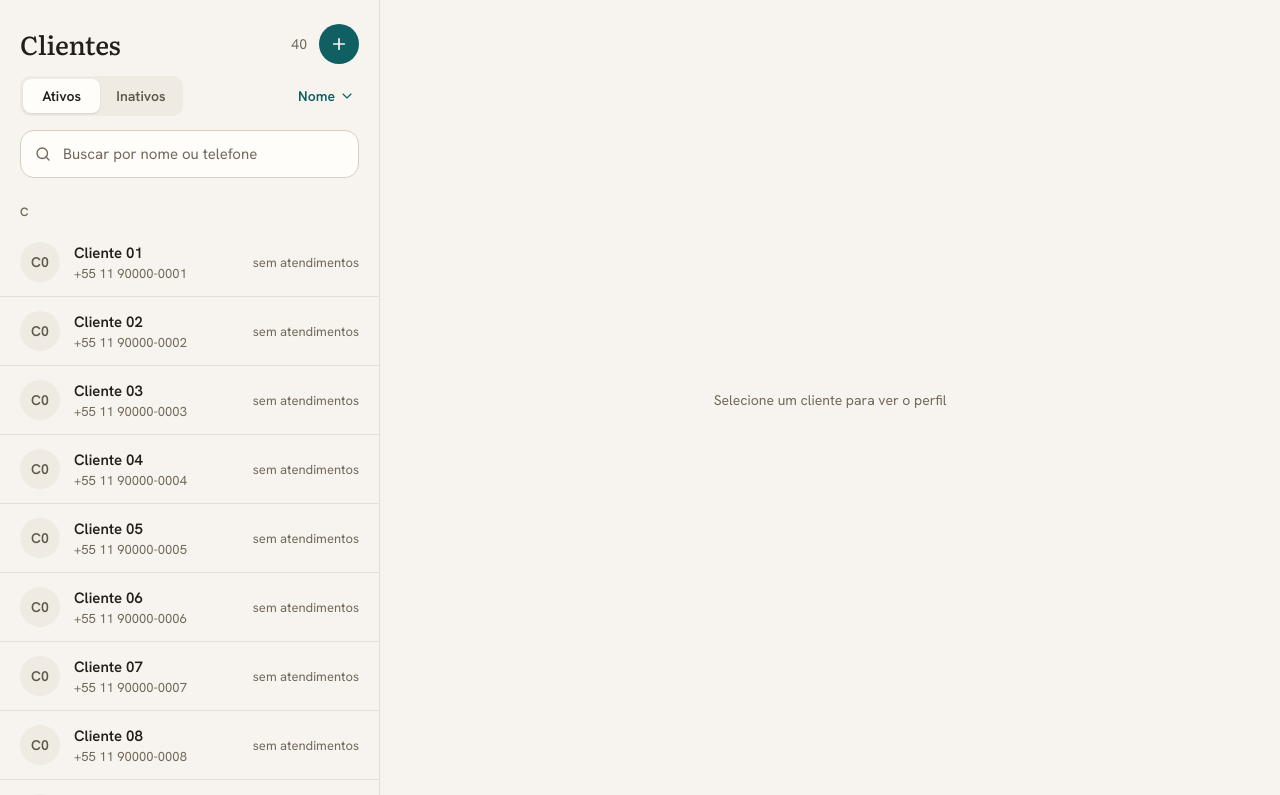
it: Clientes — scroll infinito › a busca vai para o servidor e acha quem ainda não foi carregado
Expected: the link "Cliente 38" is not shown
Type "cliente 38" into the search field at x=190, y=154, box x1=20 y1=130 x2=359 y2=178
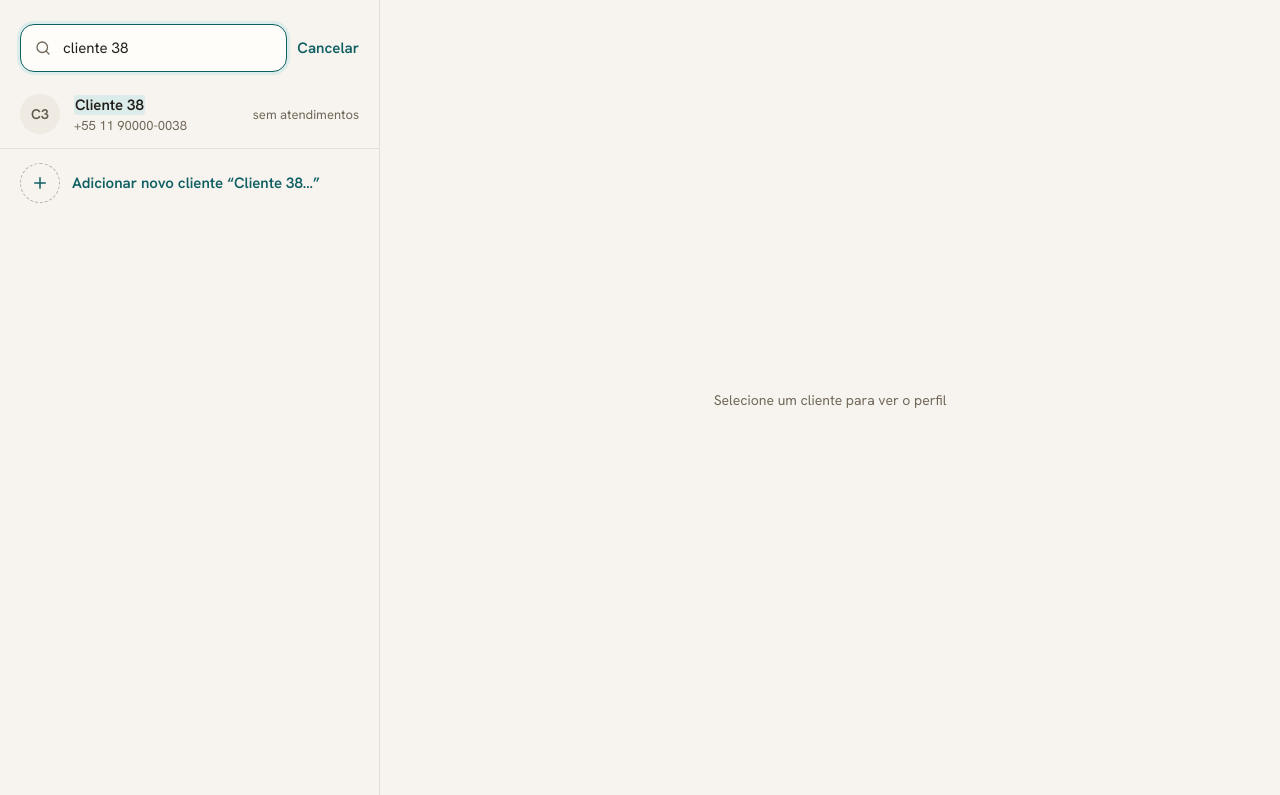
Result: the link "C3 Cliente 38 +55 11 90000-0038 sem atendimentos" is shown at x1=20 y1=94 x2=359 y2=134
